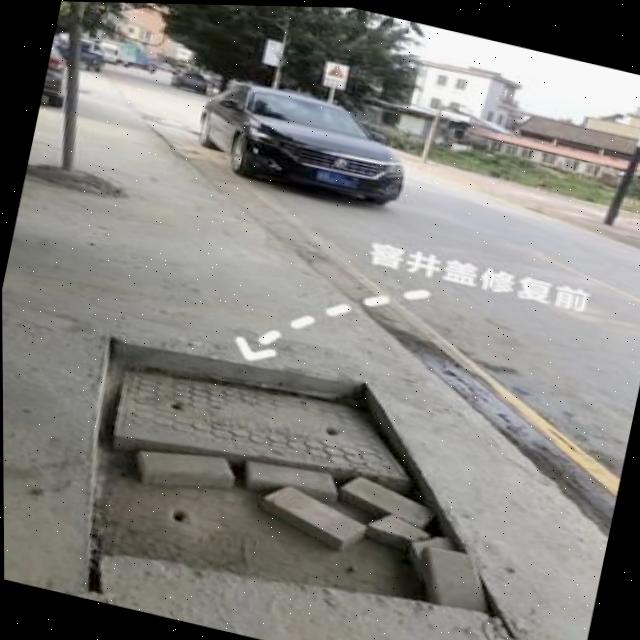manhole: (23, 296, 558, 640)
